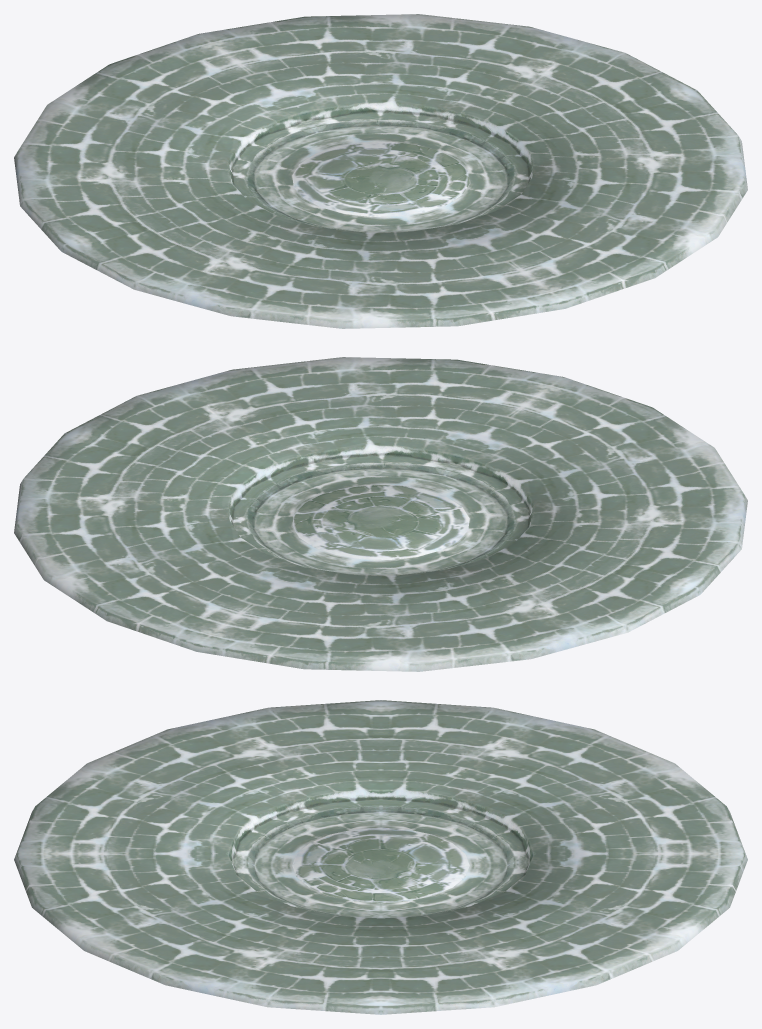
File: SM_House_brick_03.fbx
3 views of the same model, one above another, from view 1: azimuth 30°, elevation 25°; view 2: azimuth 150°, elevation 25°; view 3: azimuth 270°, elevation 25° (orthographic).
Visible parts, largest first — view 1: SM_House_brick_03; view 2: SM_House_brick_03; view 3: SM_House_brick_03.
Part boxes in pixels (x1,y1,x2,y2): SM_House_brick_03: (14,14,747,328); SM_House_brick_03: (14,357,747,671); SM_House_brick_03: (14,700,747,1014).
Bounding box in the file's own units: 15.51 × 0.2737 × 15.51.
